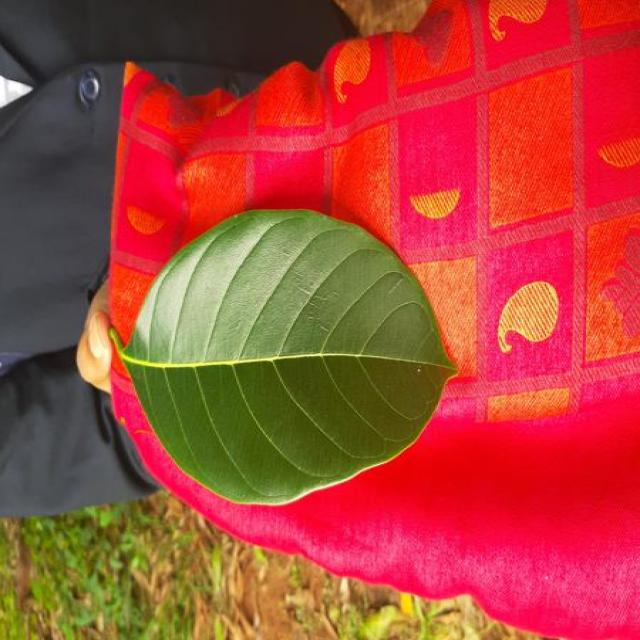Jackfruit: (117, 210, 457, 504)
